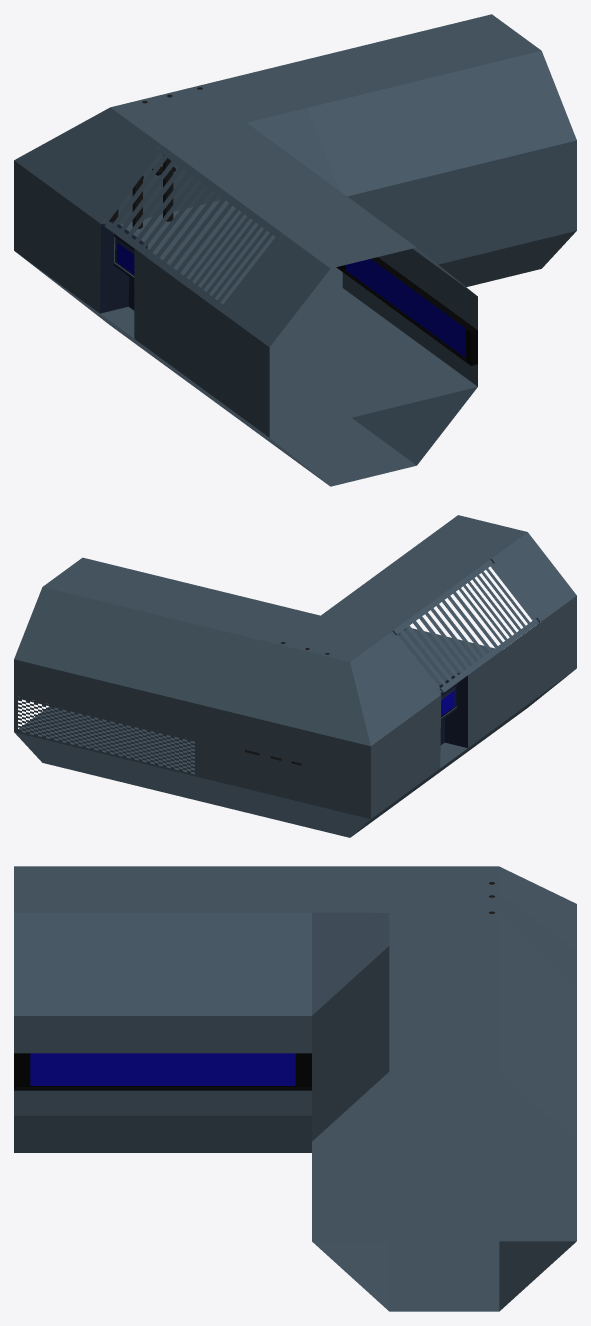
File: g_rdy_c.obj
The picture shows the model from 3 angles, top to bottom: view 1: azimuth 30°, elevation 25°; view 2: azimuth 150°, elevation 25°; view 3: azimuth 270°, elevation 25°; orthographic projection. The views are drawn at different scales.
Parts seen in each view (by area): view 1: g_Cylinder.002; view 2: g_Cylinder.002; view 3: g_Cylinder.002.
Part boxes in pixels (left/top/right/bottom): g_Cylinder.002: left=14, top=14, right=576, bottom=486; g_Cylinder.002: left=14, top=515, right=576, bottom=837; g_Cylinder.002: left=14, top=866, right=576, bottom=1311.
Bounding box in the file's own units: 3.92 × 1.85 × 3.92.
